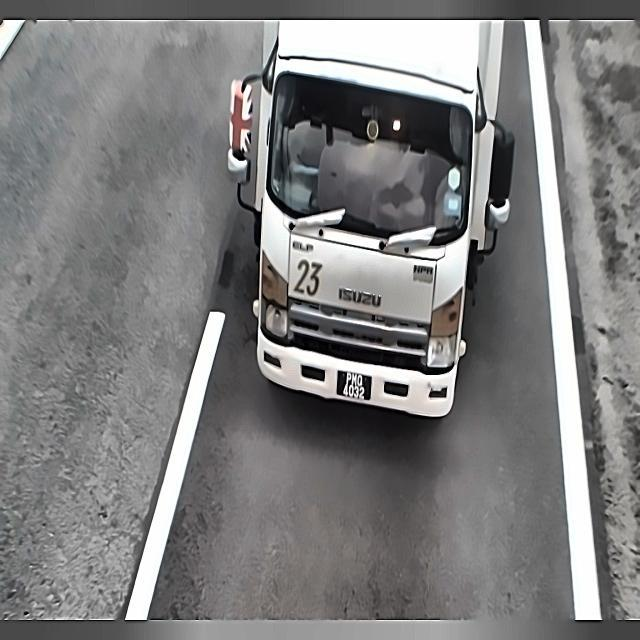car: (333, 364, 375, 409)
